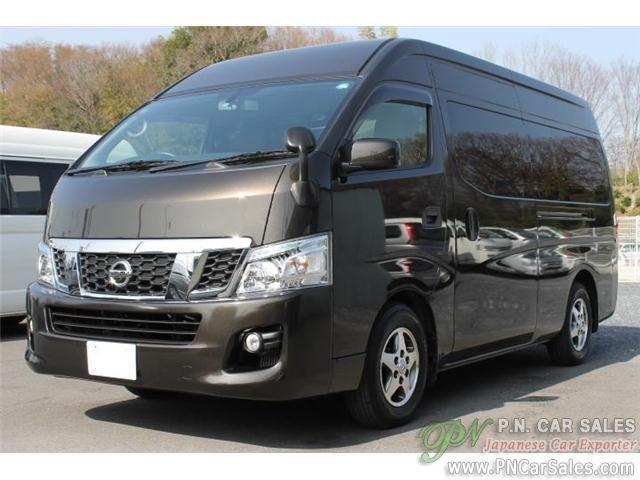Van: (30, 33, 618, 419)
